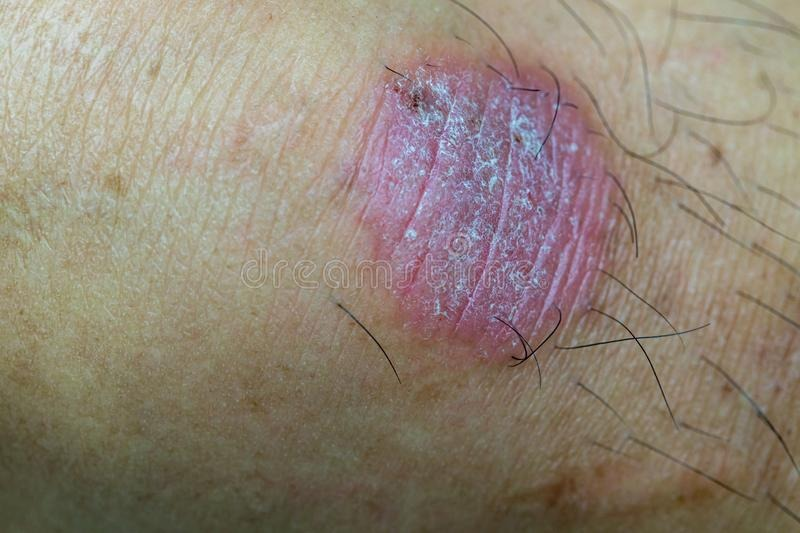Ringworm: (339, 31, 640, 354)
